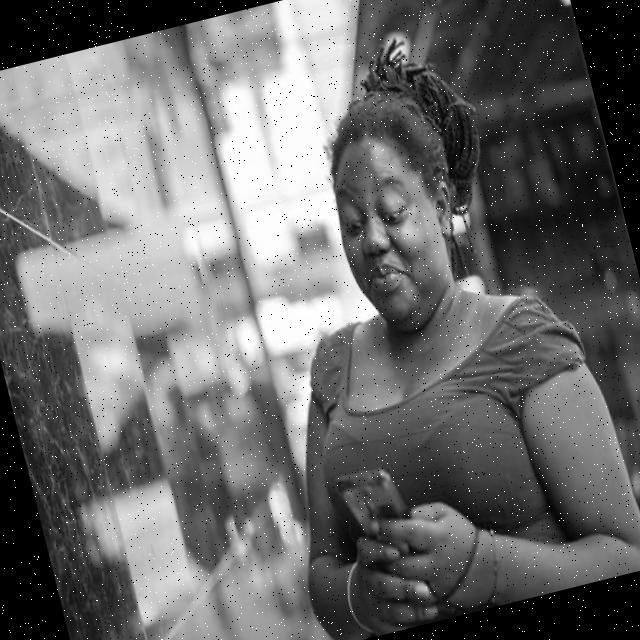Surprised: (316, 126, 462, 338)
